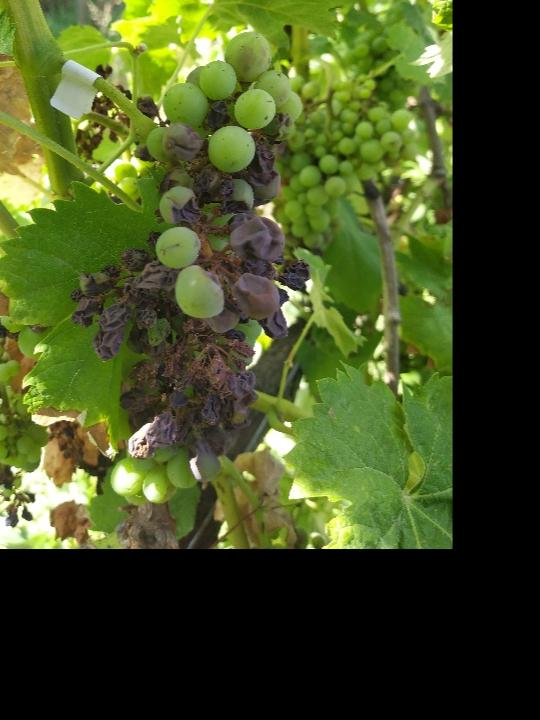grape: (71, 29, 314, 507)
